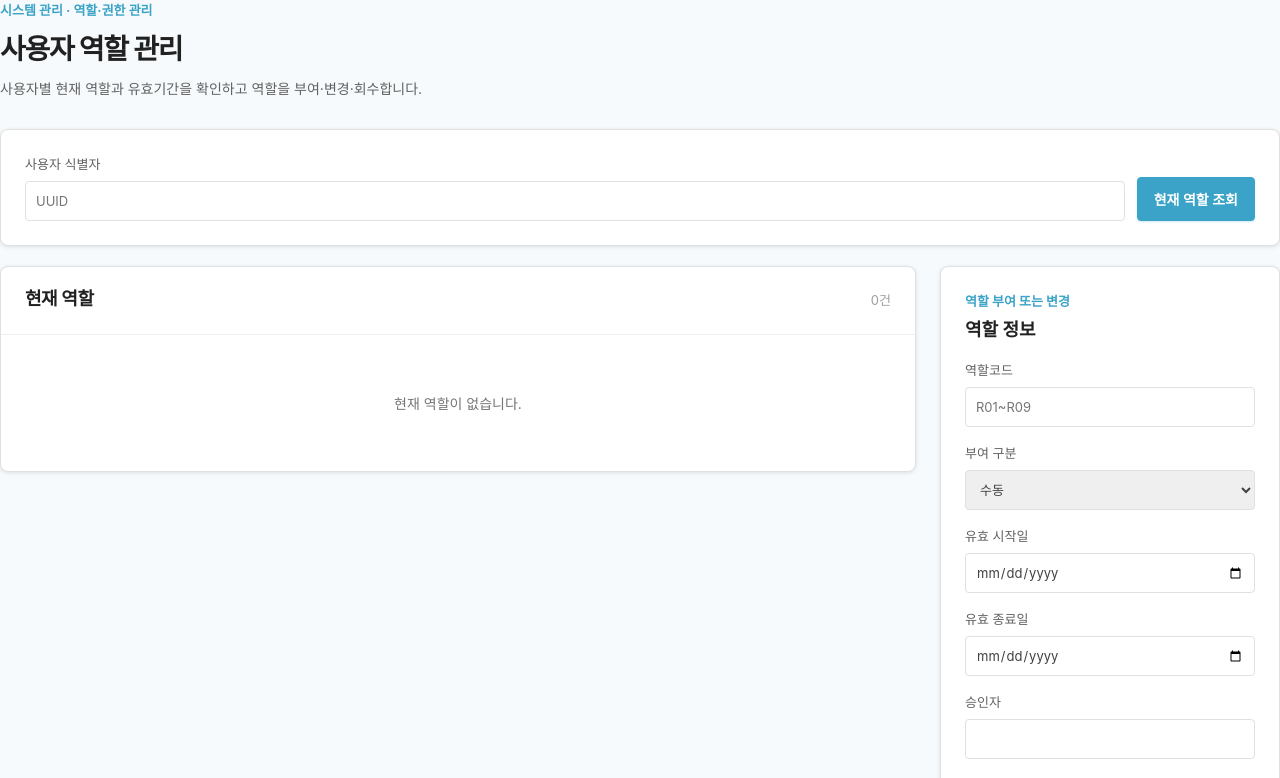
UserRoleManagementPage › confirms revocation before removing the role from the current table
In the field labelled "사용자 식별자": (575, 201) [25,181,1125,221], type "10000000-0000-0000-0000-000000000001"
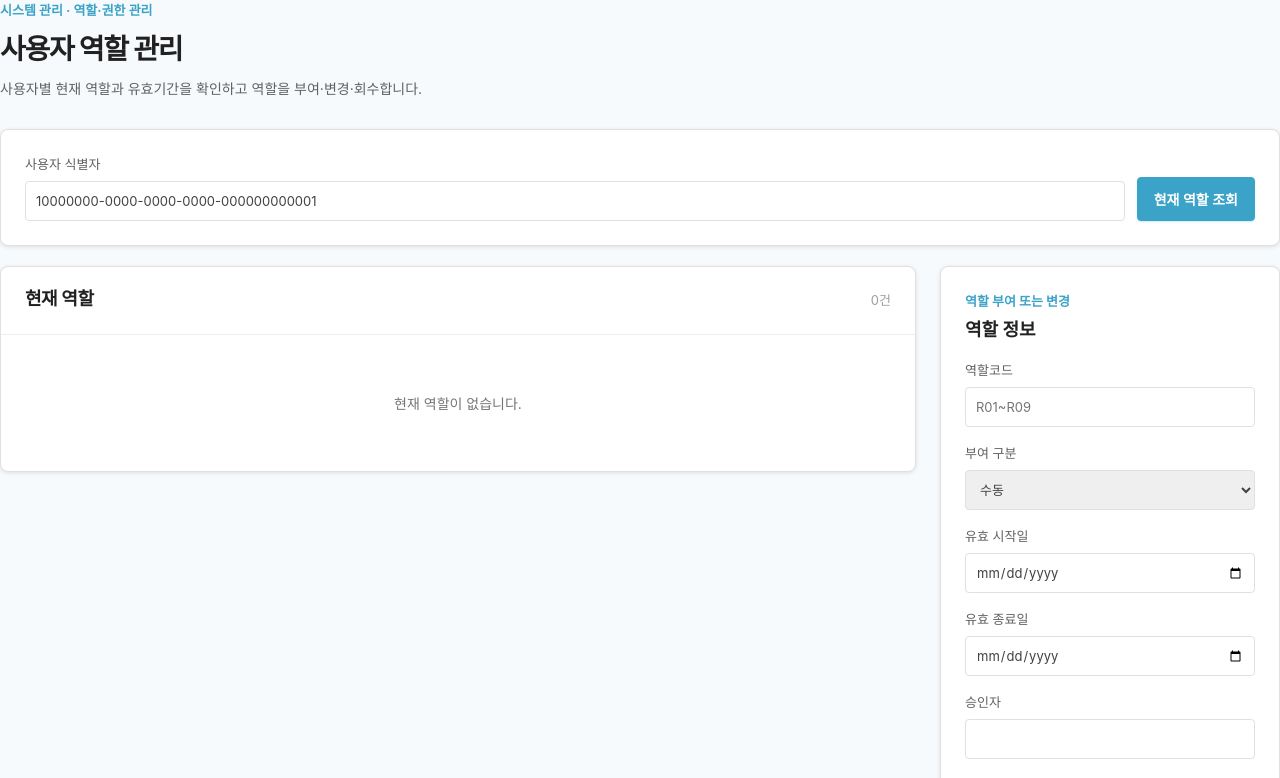
Click the button "현재 역할 조회": (1196, 199) [1137,177,1255,221]
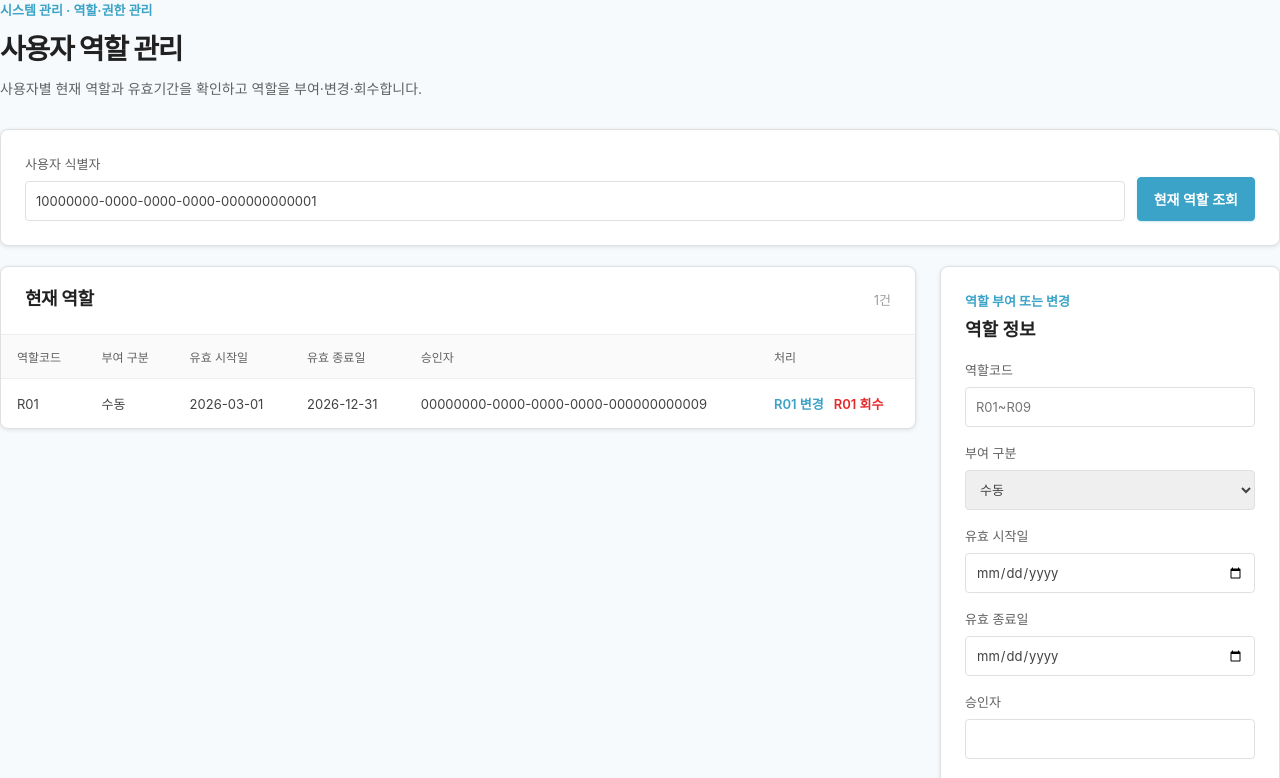
Now the text "R01" is shown, box [1,378,86,428]
Click the button "R01 회수": (859, 404) [834,394,884,413]
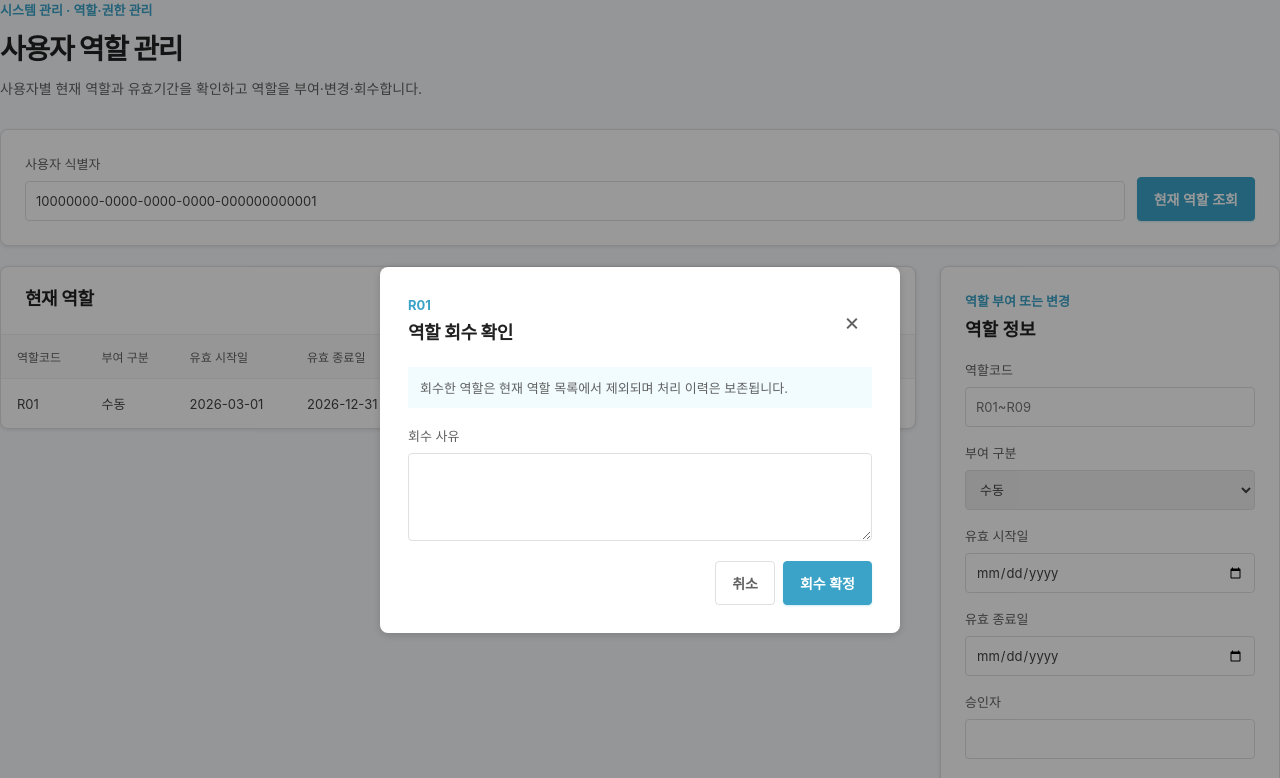
In the text box labelled "회수 사유": (640, 497) [408,453,872,541], type "역할 회수"
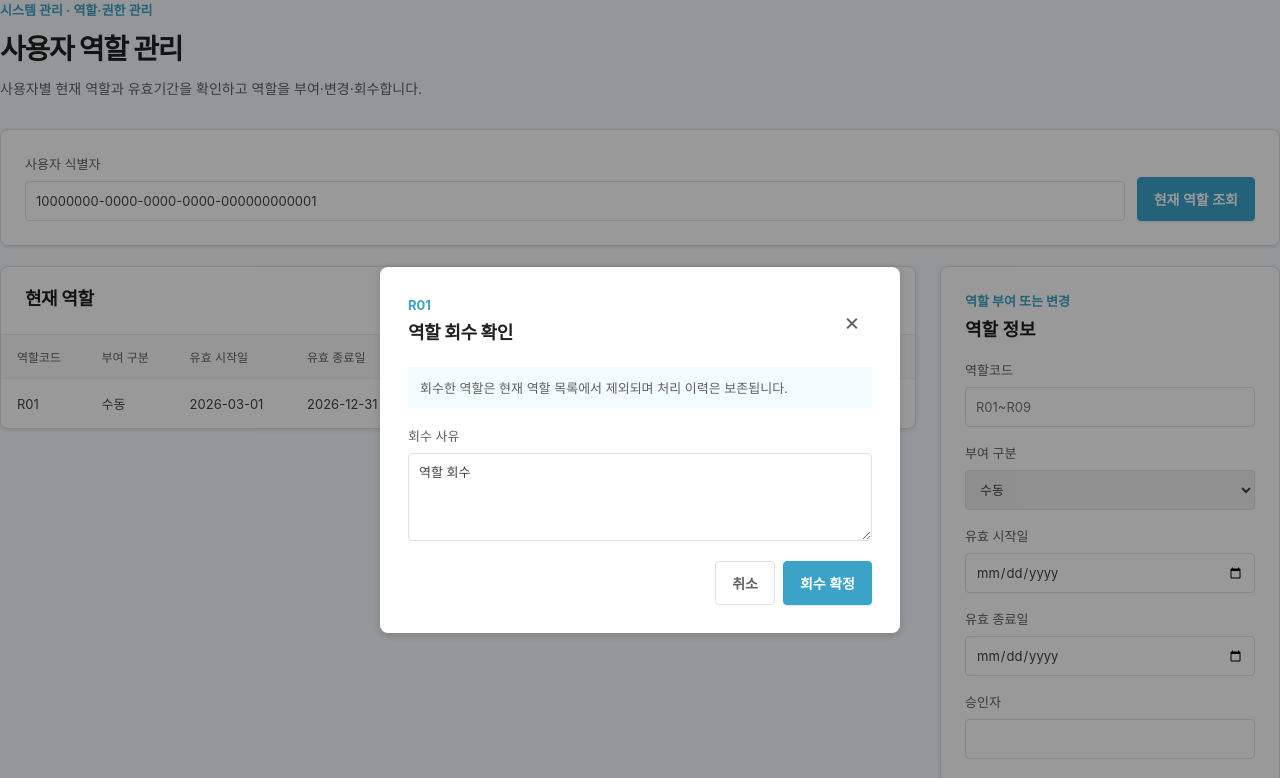
Click the button "회수 확정": (827, 583) [783,561,872,605]
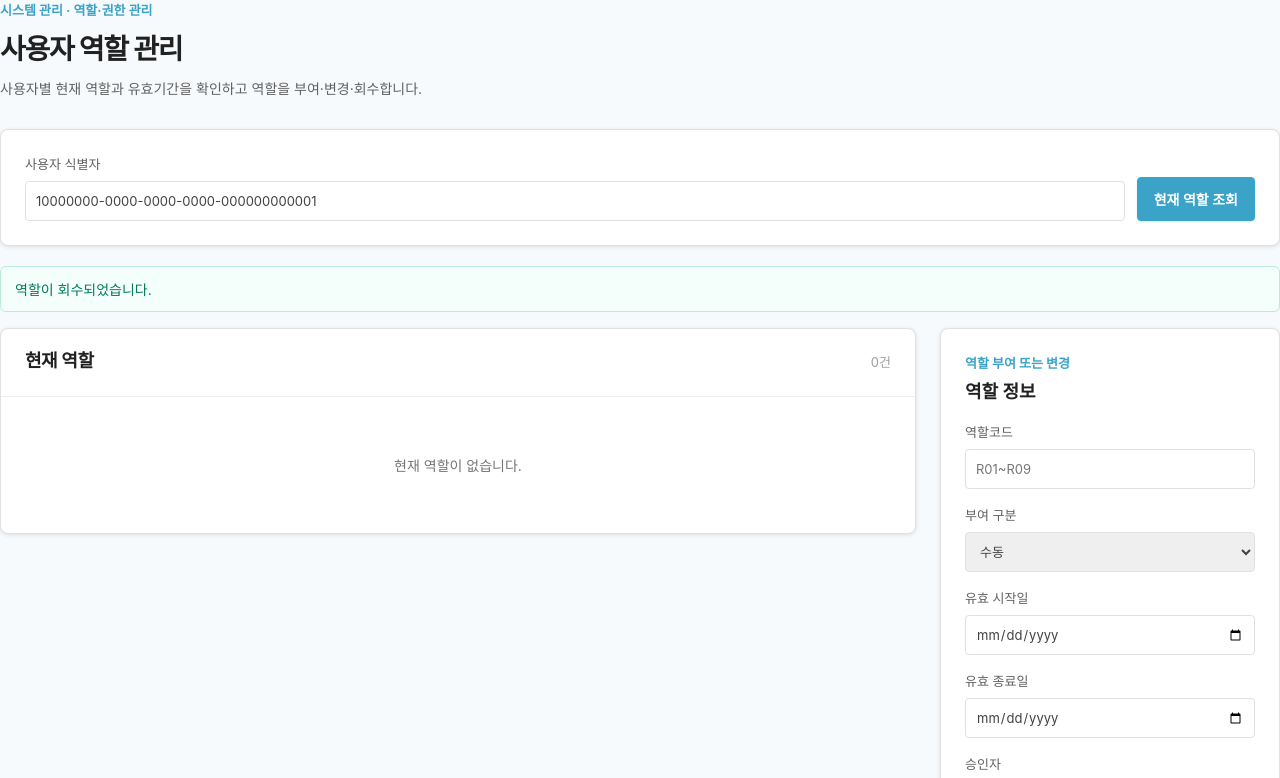
Now the text "역할이 회수되었습니다." is shown, box [0,266,1279,312]
Now the text "현재 역할이 없습니다." is shown, box [394,457,522,474]
